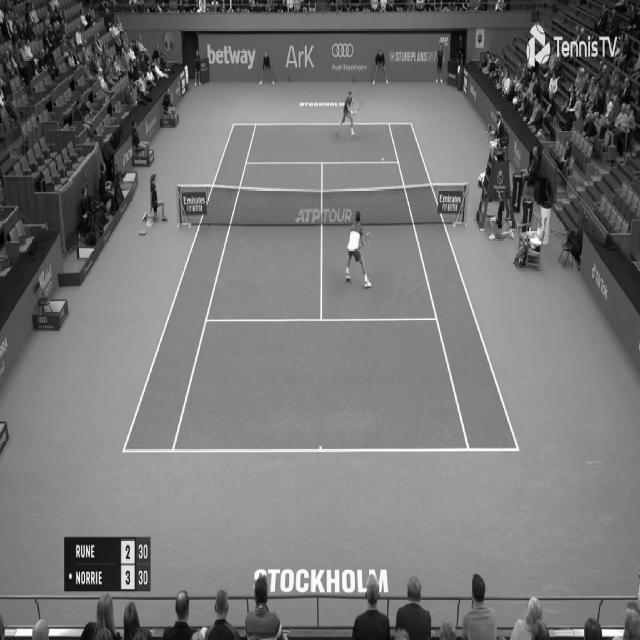tennis-court: (122, 123, 520, 452)
